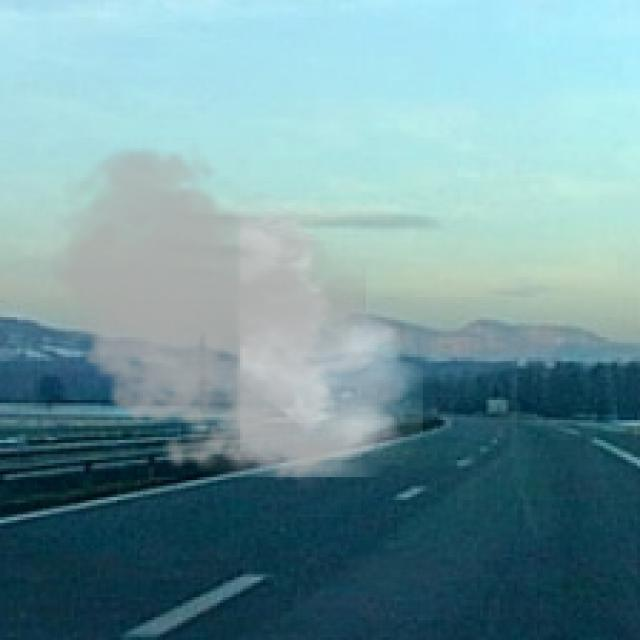smoke: (34, 140, 423, 491)
